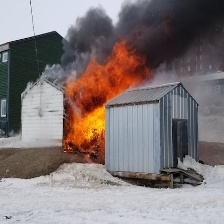fire: (64, 53, 139, 156)
smoke: (37, 1, 224, 81)
